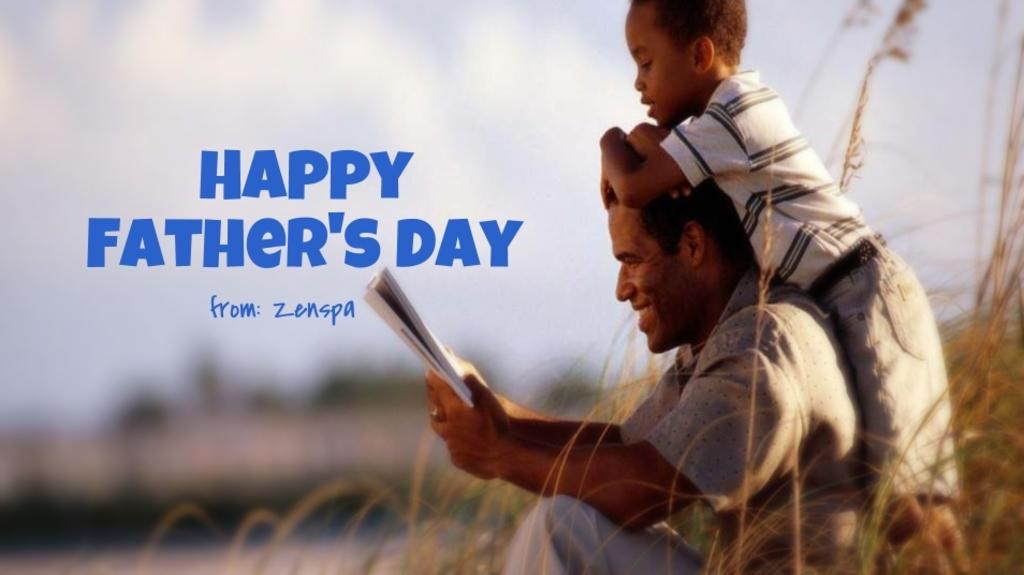Sem Máscara: (607, 205, 682, 350), (626, 3, 693, 127)
